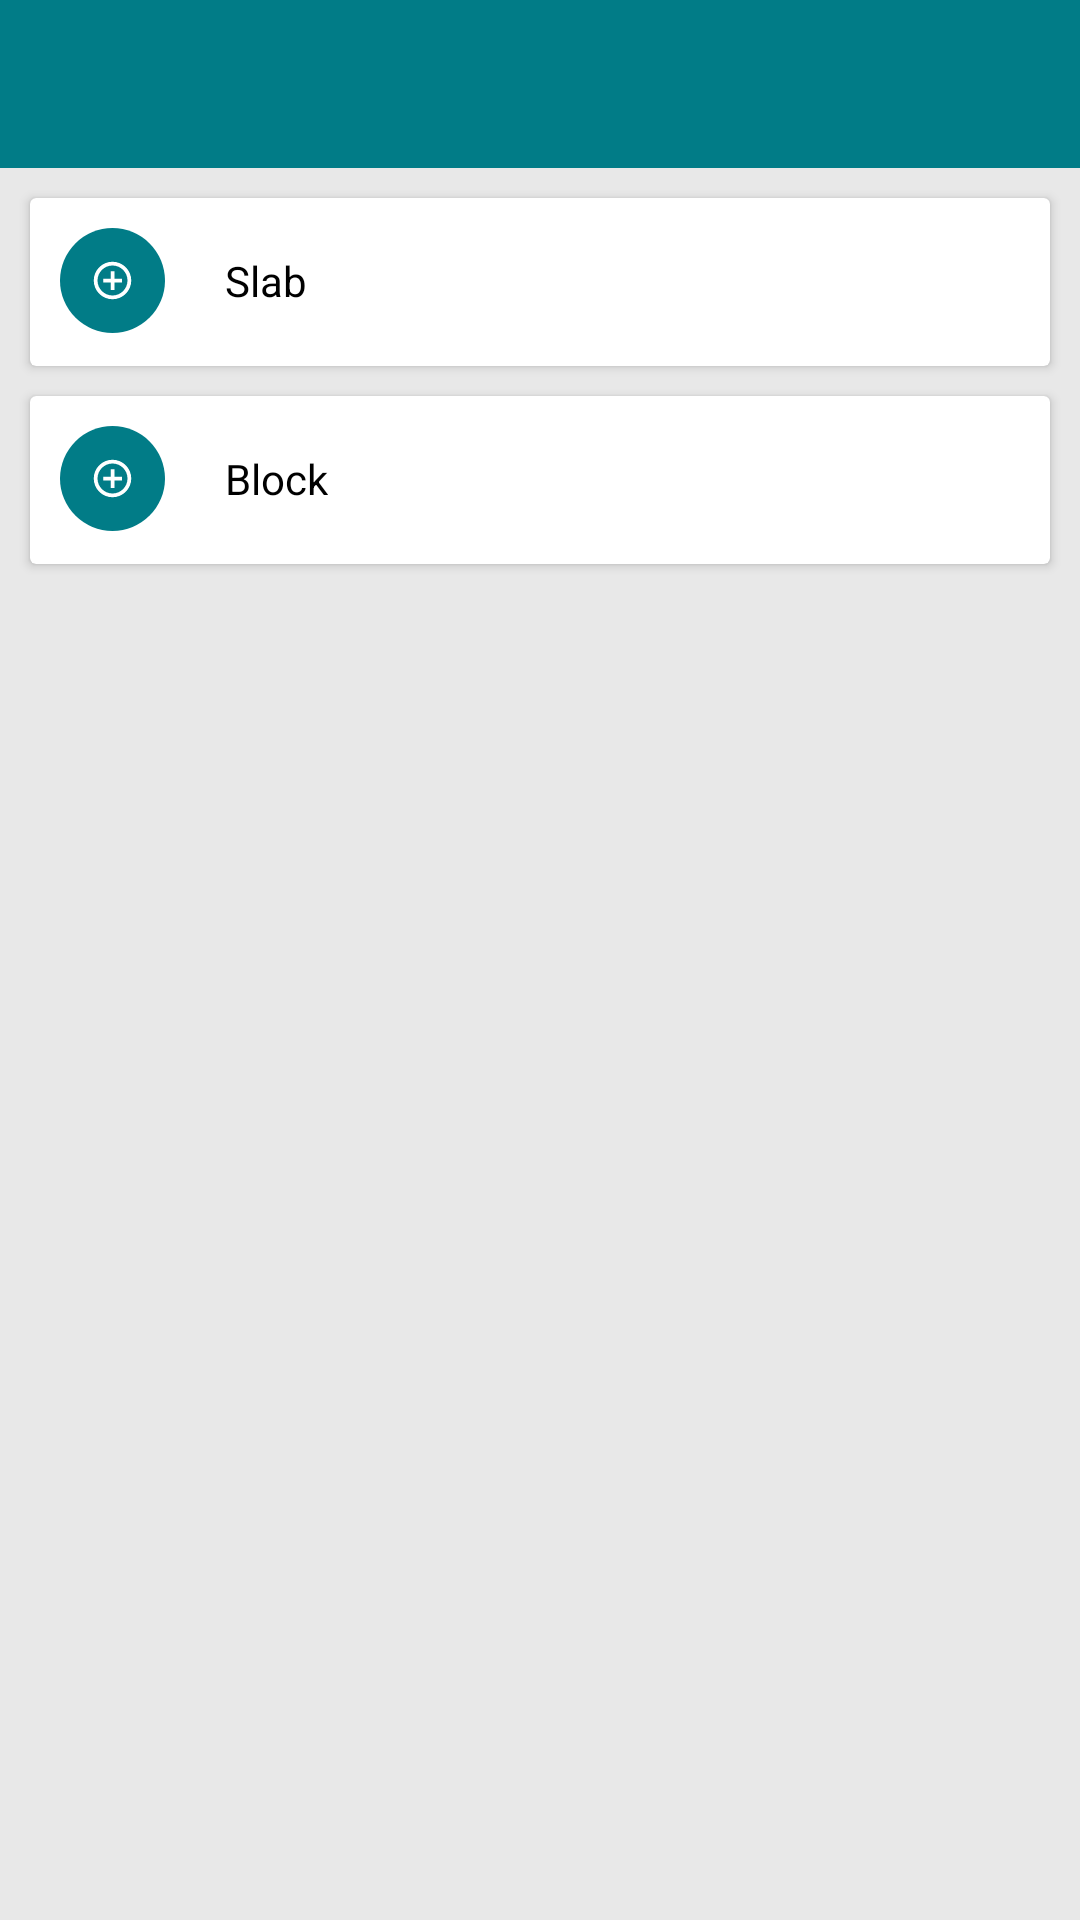

Locate icon controls on the screen. Image size 1080px x 1920px, boxes as {"left": x1, "top": y1, "right": x2, "bottom": y2}.
add: {"left": 93, "top": 261, "right": 132, "bottom": 300}, {"left": 93, "top": 459, "right": 132, "bottom": 498}
